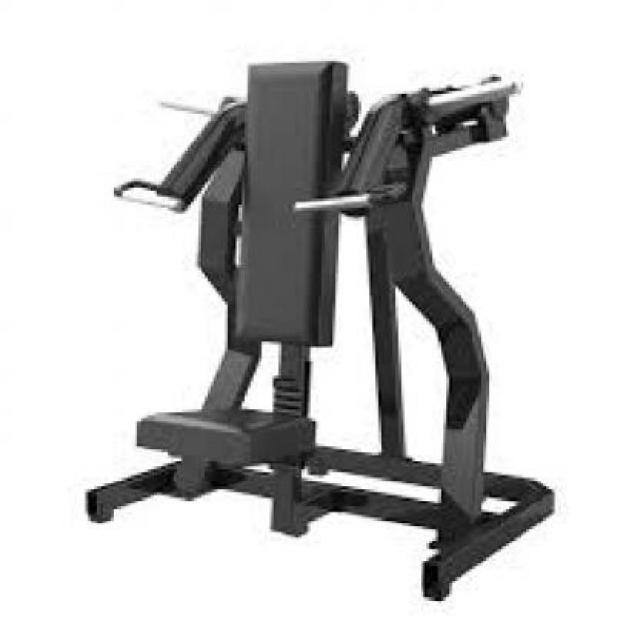shoulder press machine: (78, 48, 571, 610)
